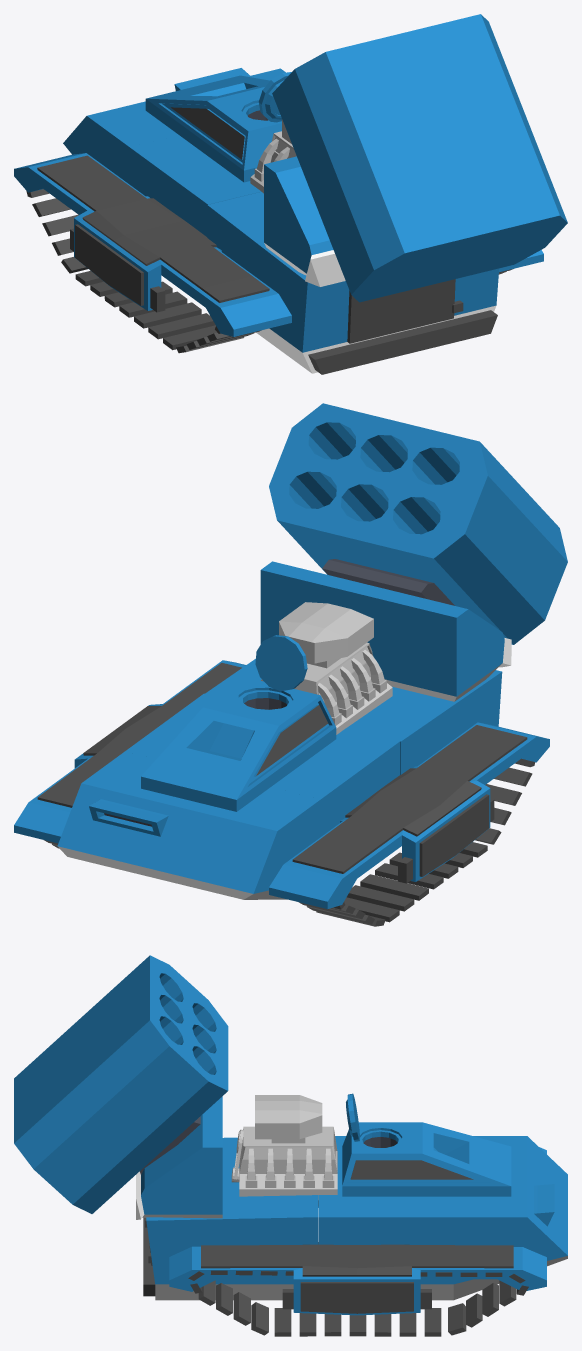
Rendered from Artillery.fbx.
3 views of the same model, one above another, from view 1: azimuth 30°, elevation 25°; view 2: azimuth 150°, elevation 25°; view 3: azimuth 270°, elevation 25° (orthographic). The views are drawn at different scales.
Parts seen in each view (by area): view 1: 01 RocketPod_81, 01 Tank Body Track cover 02_75, 01 Tank Body Back 02_60, 01 Tank Body Front 02_59, 01 Tank Body turret 01_80, 01 Tank Body Front 04_86, 01 Tank Body Tracks 02_73, 03 engine 01_87; view 2: 01 RocketPod_81, 01 Tank Body Front 02_59, 01 Tank Body Track cover 02_75, 01 Tank Body turret 01_80, 01 Tank Body Front 04_86, 03 engine 01_87, 01 Tank Body Back 02_60, 01 Tank Body Track cover 02_74, 01 Tank Body Tracks 02_73; view 3: 01 RocketPod_81, 01 Tank Body Track cover 02_74, 01 Tank Body Front 02_59, 01 Tank Body turret 01_80, 01 Tank Body Back 02_60, 03 engine 01_87, 01 Tank Body Tracks 02_72, 01 Tank Body Front 04_86.
Boxes of the visible parts, left/top/right/bottom form: 01 RocketPod_81: left=272, top=14, right=567, bottom=302; 01 Tank Body Track cover 02_75: left=14, top=153, right=291, bottom=336; 01 Tank Body Back 02_60: left=207, top=192, right=499, bottom=374; 01 Tank Body Front 02_59: left=63, top=68, right=285, bottom=236; 01 Tank Body turret 01_80: left=145, top=72, right=291, bottom=182; 01 Tank Body Front 04_86: left=264, top=156, right=345, bottom=286; 01 Tank Body Tracks 02_73: left=26, top=189, right=261, bottom=353; 03 engine 01_87: left=250, top=119, right=296, bottom=193; 01 RocketPod_81: left=269, top=403, right=567, bottom=644; 01 Tank Body Front 02_59: left=57, top=693, right=399, bottom=899; 01 Tank Body Track cover 02_75: left=269, top=722, right=549, bottom=909; 01 Tank Body turret 01_80: left=141, top=635, right=336, bottom=811; 01 Tank Body Front 04_86: left=260, top=561, right=511, bottom=701; 03 engine 01_87: left=261, top=602, right=392, bottom=734; 01 Tank Body Back 02_60: left=205, top=658, right=502, bottom=774; 01 Tank Body Track cover 02_74: left=14, top=660, right=245, bottom=843; 01 Tank Body Tracks 02_73: left=299, top=758, right=535, bottom=926; 01 RocketPod_81: left=14, top=955, right=228, bottom=1213; 01 Tank Body Track cover 02_74: left=169, top=1242, right=546, bottom=1315; 01 Tank Body Front 02_59: left=319, top=1136, right=567, bottom=1300; 01 Tank Body turret 01_80: left=342, top=1093, right=511, bottom=1196; 01 Tank Body Back 02_60: left=143, top=1137, right=318, bottom=1300; 03 engine 01_87: left=231, top=1095, right=337, bottom=1199; 01 Tank Body Tracks 02_72: left=188, top=1270, right=528, bottom=1336; 01 Tank Body Front 04_86: left=136, top=1096, right=222, bottom=1219.
Bounding box in the file's own units: 17.68 × 16.36 × 28.8.
